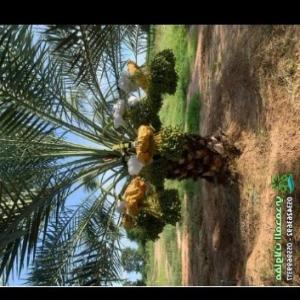palm tree: (0, 23, 241, 286)
